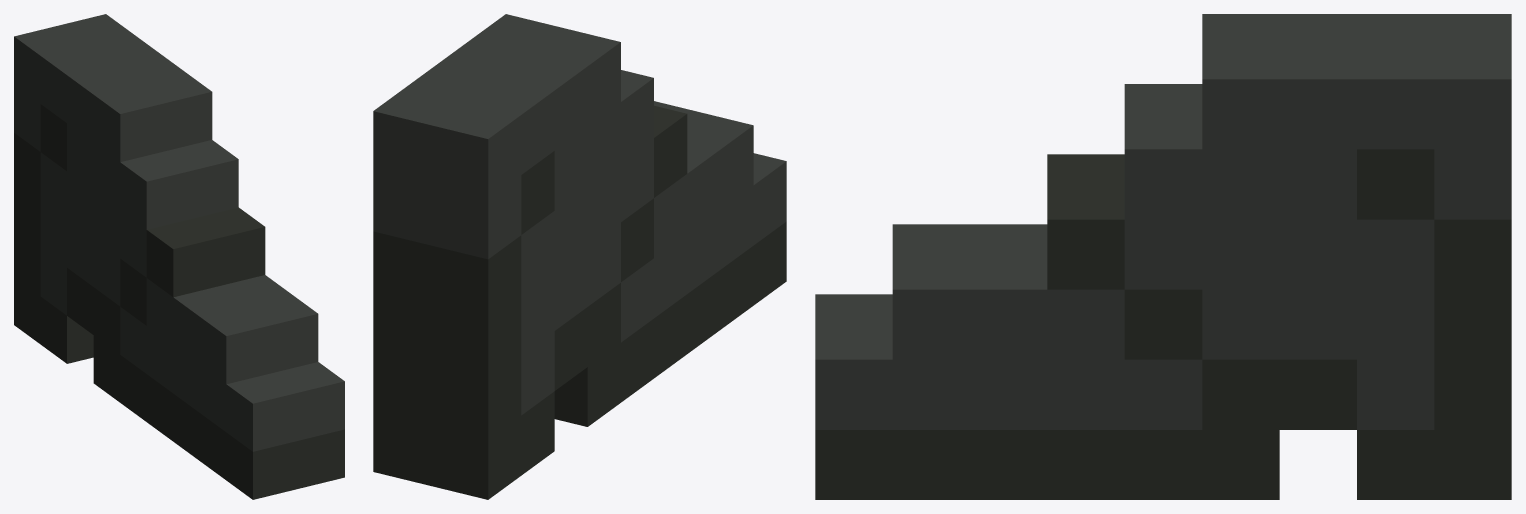
The model's file is Shoe_01_Mesh.fbx.
3 renders of one model, left to right at view 1: azimuth 30°, elevation 25°; view 2: azimuth 150°, elevation 25°; view 3: azimuth 270°, elevation 25°, orthographic. The views are drawn at different scales.
Visible parts, largest first — view 1: Shoe_01_Mesh; view 2: Shoe_01_Mesh; view 3: Shoe_01_Mesh.
Boxes of the visible parts, left/top/right/bottom form: Shoe_01_Mesh: left=14, top=14, right=344, bottom=499; Shoe_01_Mesh: left=373, top=14, right=786, bottom=499; Shoe_01_Mesh: left=815, top=14, right=1511, bottom=499.
Size of the model in its own units: 0.2 by 0.6 by 0.9.
1 material, 1 textured.
